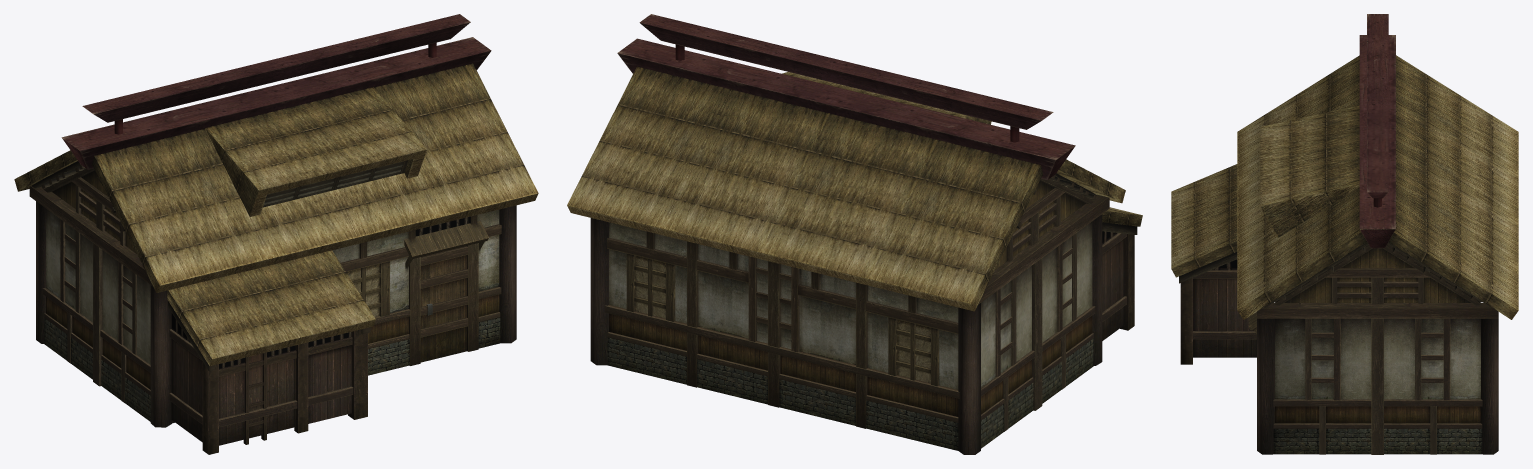
File: fortms_build_normal_02.fbx
The picture shows the model from 3 angles, left to right: view 1: azimuth 30°, elevation 25°; view 2: azimuth 150°, elevation 25°; view 3: azimuth 270°, elevation 25°; orthographic projection. The views are drawn at different scales.
Visible parts, largest first — view 1: fortMS_build_normal_top; view 2: fortMS_build_normal_top; view 3: fortMS_build_normal_top.
Boxes of the visible parts, x1,y1,x2,y2 form: fortMS_build_normal_top: (14, 14, 538, 454); fortMS_build_normal_top: (567, 14, 1142, 454); fortMS_build_normal_top: (1171, 14, 1518, 454).
Size of the model in its own units: 14.79 by 9.5 by 11.18.
